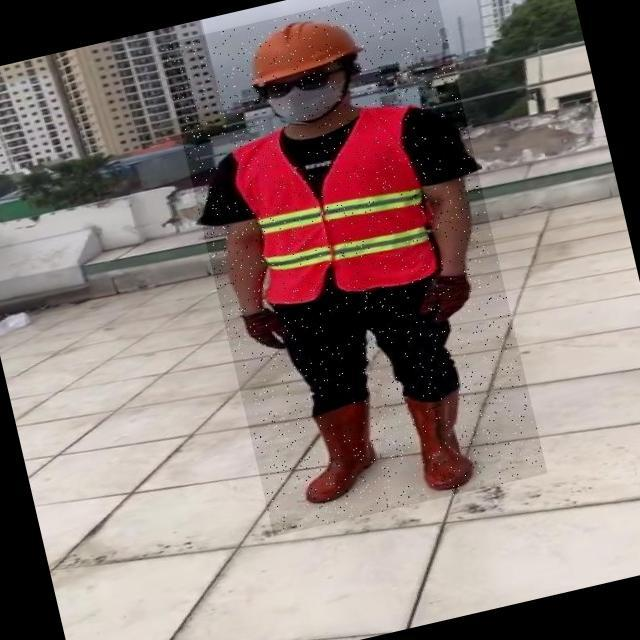Helmet: (234, 7, 361, 86)
Human: (160, 0, 547, 536)
Safety Boot: (287, 397, 394, 507), (402, 383, 480, 495)
Safety Vest: (226, 102, 445, 316)
